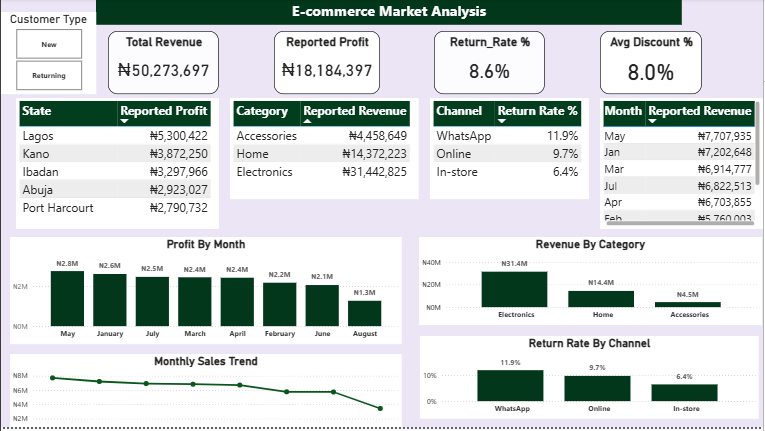

The dashboard page shown, as its layout file describes it:
{"tool":"powerbi","page":{"name":"Page 1","canvas":[1280,720],"ordinal":0},"visuals":[{"type":"card","title":"Total Revenue","fields":{"Values":["_measure.Total Revenue"]},"box":[179.7,55.4,186.5,105.8],"z":0},{"type":"card","title":"Avg Discount %","fields":{"Values":["_measure.Average Discount %"]},"box":[1006.2,55.4,171.3,105.8],"z":1000},{"type":"card","title":"Return_Rate %","fields":{"Values":["_measure.Return Rate %"]},"box":[727.9,55.4,186.5,105.8],"z":2000},{"type":"card","title":"Reported Profit","fields":{"Values":["_measure.Reported Profit"]},"box":[458,55.4,178.1,105.8],"z":3000},{"type":"tableEx","fields":{"Values":["Product.State","_measure.Reported Profit"]},"box":[25.2,168,341,220.1],"z":4000},{"type":"tableEx","fields":{"Values":["Product.Product_Category","_measure.Reported Revenue"]},"box":[384.7,168,317.5,169.7],"z":5000},{"type":"tableEx","fields":{"Values":["Product.Channel","_measure.Return Rate %"]},"box":[720.6,168,267.1,169.7],"z":6000},{"type":"tableEx","fields":{"Values":["Date Table.Month","_measure.Reported Revenue"]},"box":[1006.2,168,273.8,220.1],"z":7000},{"type":"columnChart","title":"Profit By Month","fields":{"Category":["Date Table.Date.Variation.Date Hierarchy.Month"],"Y":["_measure.Reported Profit"]},"box":[15.1,401.5,658.5,179.7],"z":8000},{"type":"columnChart","title":"Revenue  By Category","fields":{"Category":["Product.Product_Category"],"Y":["_measure.Total Revenue"]},"box":[702.2,401.5,576.2,147.8],"z":9000},{"type":"lineChart","title":"Monthly Sales Trend","fields":{"Category":["Date Table.Date.Variation.Date Hierarchy.Month"],"Y":["_measure.Total Revenue"]},"box":[15.1,598,658.5,122.6],"z":10000},{"type":"columnChart","title":"Return Rate By Channel","fields":{"Category":["Product.Channel"],"Y":["_measure.Return Rate %"]},"box":[703.8,567.8,569.4,139.4],"z":11000},{"type":"textbox","box":[159.6,0,984.4,45.4],"z":11002},{"type":"slicer","title":"Customer Type","fields":{"Values":["Product.Customer_Type"]},"box":[0,23.5,159.6,137.7],"z":11003}]}

Visuals, with their boxes in screenshot pixels (x1, y1, x2, y2), scaled from the page's 1280x720 canvas onto the 765x431 screenshot:
"Total Revenue" card: left=107, top=33, right=219, bottom=96
"Avg Discount %" card: left=601, top=33, right=704, bottom=96
"Return_Rate %" card: left=435, top=33, right=546, bottom=96
"Reported Profit" card: left=274, top=33, right=380, bottom=96
tableEx - Product.State x _measure.Reported Profit: left=15, top=101, right=219, bottom=232
tableEx - Product.Product_Category x _measure.Reported Revenue: left=230, top=101, right=420, bottom=202
tableEx - Product.Channel x _measure.Return Rate %: left=431, top=101, right=590, bottom=202
tableEx - Date Table.Month x _measure.Reported Revenue: left=601, top=101, right=764, bottom=232
"Profit By Month" columnChart: left=9, top=240, right=403, bottom=348
"Revenue  By Category" columnChart: left=420, top=240, right=764, bottom=329
"Monthly Sales Trend" lineChart: left=9, top=358, right=403, bottom=430
"Return Rate By Channel" columnChart: left=421, top=340, right=761, bottom=423
textbox: left=95, top=0, right=684, bottom=27
"Customer Type" slicer: left=0, top=14, right=95, bottom=96
